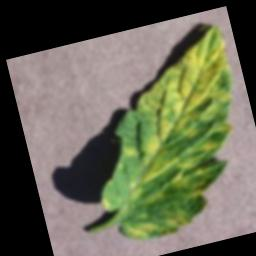Leaf_Mold: (67, 25, 256, 248)
